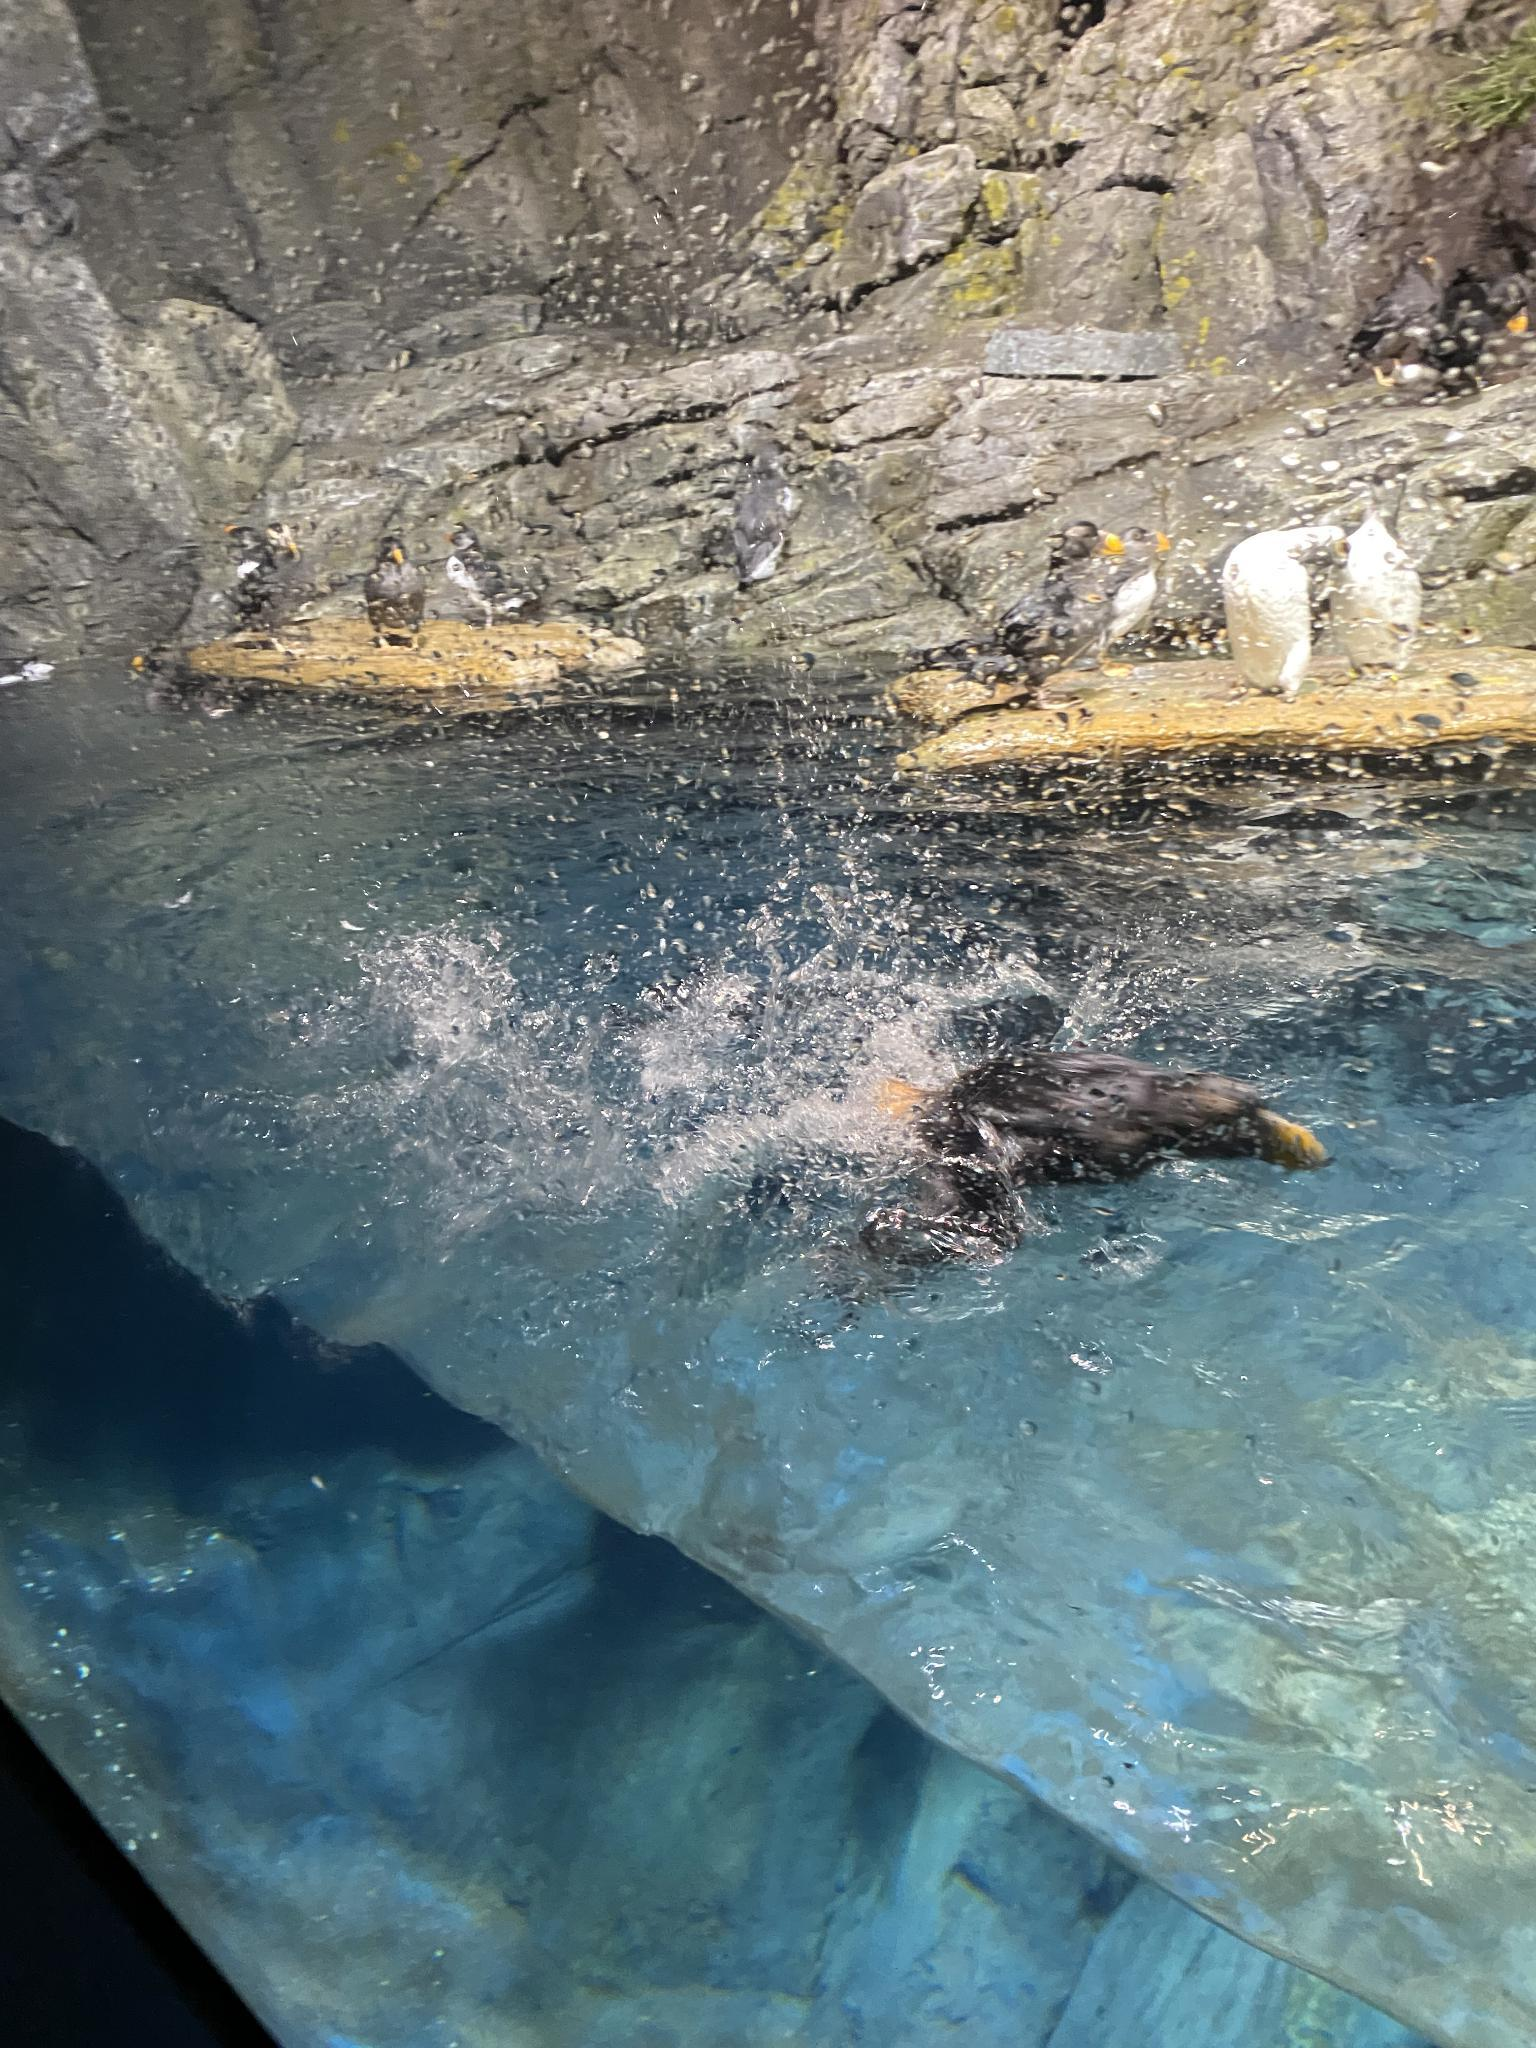puffin: (849, 1034, 1334, 1287), (916, 514, 1128, 713), (1220, 522, 1344, 697), (1325, 508, 1420, 681), (211, 518, 308, 656), (1341, 247, 1442, 377), (715, 452, 802, 590), (1428, 274, 1525, 398), (437, 521, 544, 634), (131, 645, 269, 721), (1104, 524, 1173, 668), (369, 532, 432, 655)
